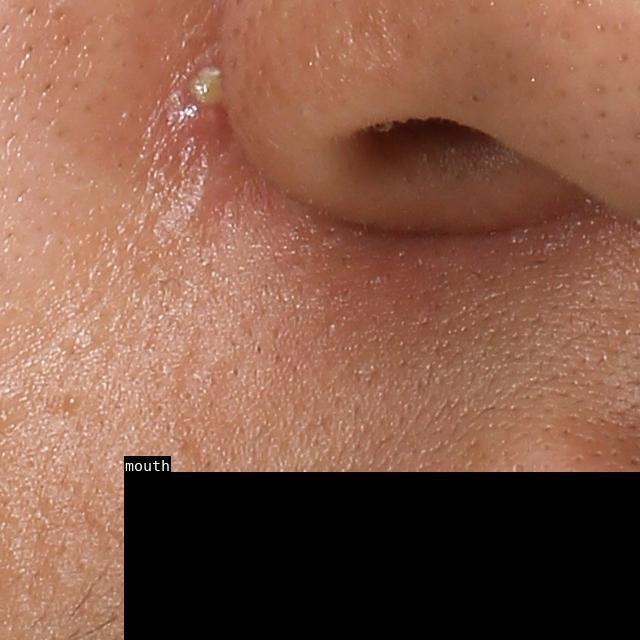comedo: (67, 394, 80, 411)
pustule: (182, 60, 230, 117)
